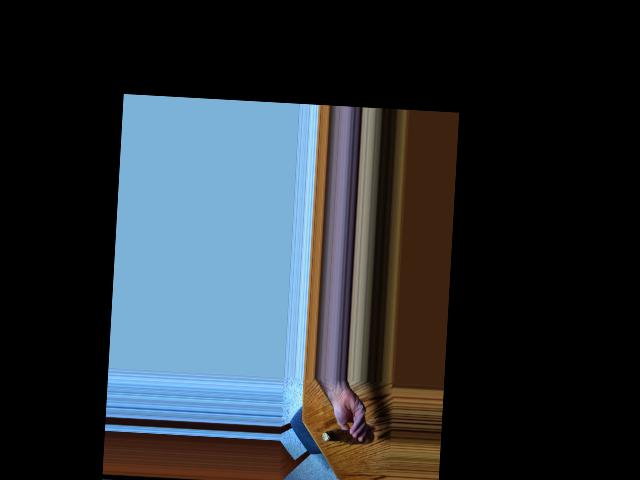sweet_potato: (325, 425, 371, 449)
